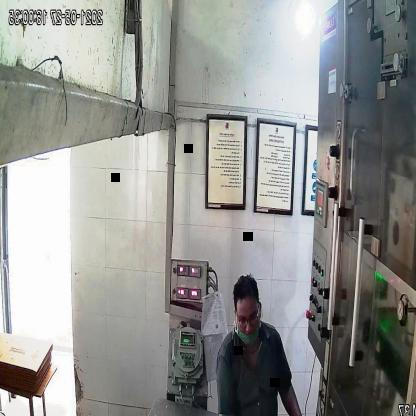goggles: (233, 302, 264, 331)
